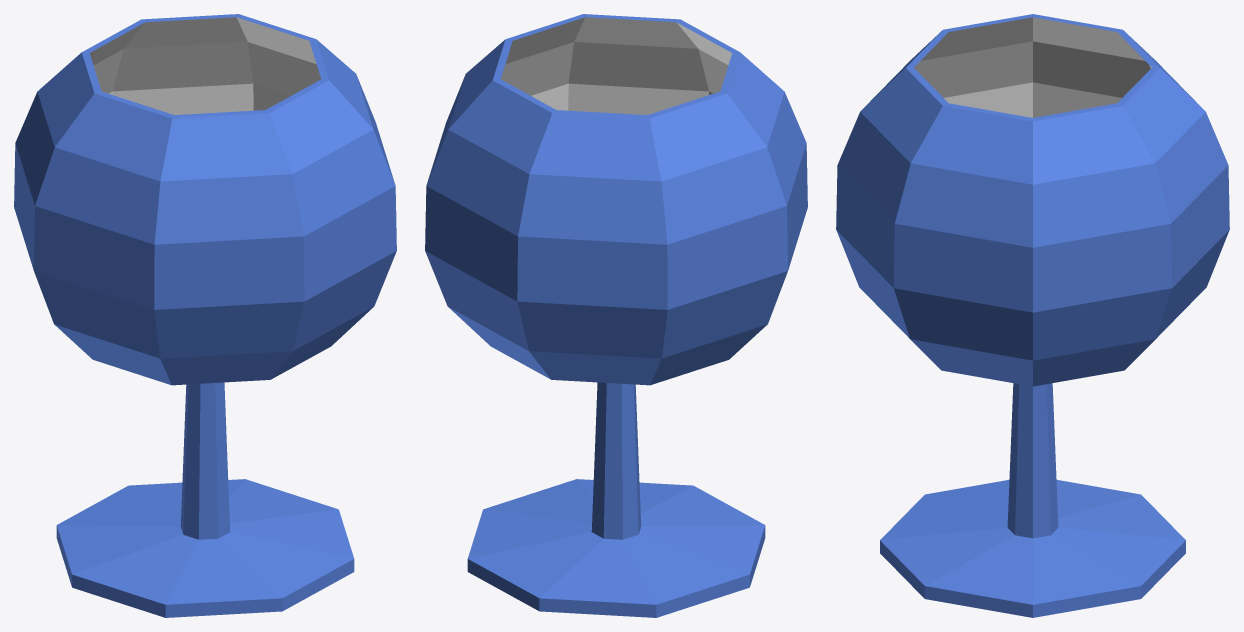
Rendered from bicchiereGrasso.fbx.
3 renders of one model, left to right at view 1: azimuth 30°, elevation 25°; view 2: azimuth 150°, elevation 25°; view 3: azimuth 270°, elevation 25°, orthographic.
Visible parts, largest first — view 1: p8_final; view 2: p8_final; view 3: p8_final.
Boxes of the visible parts, x1,y1,x2,y2 form: p8_final: (14, 14, 396, 617); p8_final: (425, 14, 807, 617); p8_final: (836, 14, 1229, 617).
Bounding box in the file's own units: 9.03 × 12.31 × 9.03.
